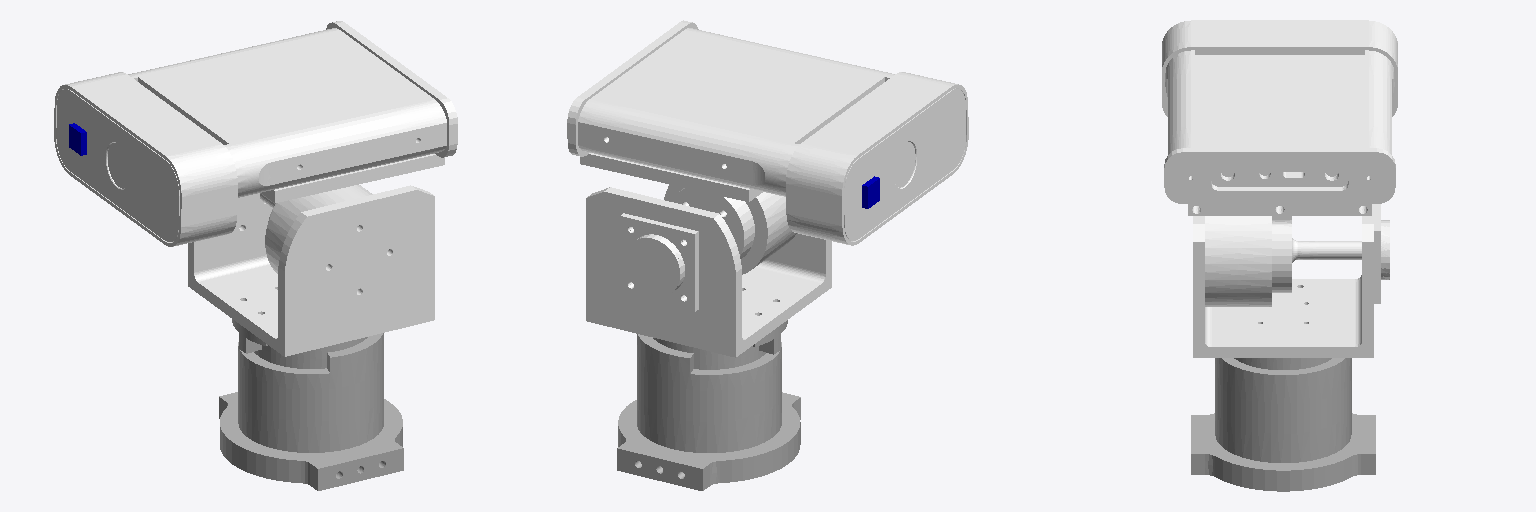
URDF robot description (twoarm_neck):
<robot
  name="twoarm_neck">
  <link name="world">
  </link>
  <link
    name="base_link">
    <inertial>
      <origin
        xyz="0 0 0"
        rpy="0 0 0" />
      <mass
        value="0.144396264939993" />
      <inertia
        ixx="0.000143518614192769"
        ixy="-3.10732239576783E-12"
        ixz="-6.67605359934269E-06"
        iyy="0.000155552709433615"
        iyz="-3.29481748801136E-12"
        izz="0.000258792041913219" />
    </inertial>
    <visual>
      <origin
        xyz="0 0 0"
        rpy="0 0 0" />
      <geometry>
        <mesh
          filename="two_arm_neck/neck1.stl" />
      </geometry>
      <material
        name="">
        <color
          rgba="0.752941176470588 0.752941176470588 0.752941176470588 1" />
      </material>
    </visual>
    <collision>
      <origin
        xyz="0 0 0"
        rpy="0 0 0" />
      <geometry>
        <mesh
          filename="two_arm_neck/neck1.stl" />
      </geometry>
    </collision>
  </link>
  <link
    name="link1">
    <inertial>
      <origin
        xyz="0 0 0"
        rpy="0 0 0" />
      <mass
        value="0.00558464092794276" />
      <inertia
        ixx="1.34906671319978E-06"
        ixy="-6.75990848930974E-15"
        ixz="-9.2900996309437E-10"
        iyy="2.56110628664785E-06"
        iyz="2.75193579105881E-11"
        izz="2.08267318891963E-06" />
    </inertial>
    <visual>
      <origin
        xyz="0 0 0"
        rpy="0 0 0" />
      <geometry>
        <mesh
          filename="two_arm_neck/neck2.stl" />
      </geometry>
      <material
        name="">
        <color
          rgba="1 1 1 1" />
      </material>
    </visual>
    <collision>
      <origin
        xyz="0 0 0"
        rpy="0 0 0" />
      <geometry>
        <mesh
          filename="two_arm_neck/neck2.stl" />
      </geometry>
    </collision>
  </link>
  <link
    name="link2">
    <inertial>
      <origin
        xyz="0 0 0"
        rpy="0 0 0" />
      <mass
        value="0.00558464092794276" />
      <inertia
        ixx="1.34906671319978E-06"
        ixy="-6.75990848930974E-15"
        ixz="-9.2900996309437E-10"
        iyy="2.56110628664785E-06"
        iyz="2.75193579105881E-11"
        izz="2.08267318891963E-06" />
    </inertial>
    <visual>
      <origin
        xyz="0 0 0"
        rpy="0 0 0" />
      <geometry>
        <mesh
          filename="two_arm_neck/neck3.stl" />
      </geometry>
      <material
        name="">
        <color
          rgba="1 1 1 1" />
      </material>
    </visual>
    <collision>
      <origin
        xyz="0 0 0"
        rpy="0 0 0" />
      <geometry>
        <mesh
          filename="two_arm_neck/neck3.stl" />
      </geometry>
    </collision>
  </link>
  <link
    name="tcp">
    <inertial>
      <origin
        xyz="0 0 0"
        rpy="0 0 0" />
      <mass
        value="0.00558464092794276" />
      <inertia
        ixx="1.34906671319978E-06"
        ixy="-6.75990848930974E-15"
        ixz="-9.2900996309437E-10"
        iyy="2.56110628664785E-06"
        iyz="2.75193579105881E-11"
        izz="2.08267318891963E-06" />
    </inertial>
    <visual>
      <origin rpy="0 0 0" xyz="0 0 0"/>
      <geometry>
       <box size="0.01 0.01 0.01" />
      </geometry>
      <material name="blue">
    <color rgba="0.0 0.0 0.8 1.0"/>
  </material>
    </visual>
    <collision>
      <origin rpy="0 0 0" xyz="0 0 0"/>
      <geometry>
        <box size="0.01 0.01 0.01" />
      </geometry>
    </collision>
  </link>
  <joint
    name="world_fixed"
    type="fixed">
    <origin
      xyz="0 0 0"
      rpy="0 0 0" />
    <parent
      link="world" />
    <child
      link="base_link" />
    <axis
      xyz="0 0 -1" />
  </joint>
  <joint
    name="joint1"
    type="continuous">
    <origin
      xyz="0 0 0.06290"
      rpy="0 0 0" />
    <parent
      link="base_link" />
    <child
      link="link1" />
    <axis
      xyz="0 0 1" />
  </joint>
  <joint
    name="joint2"
    type="continuous">
    <origin
      xyz="0 0 0.035"
      rpy="0 0 0" />
    <parent
      link="link1" />
    <child
      link="link2" />
    <axis
      xyz="0 -1 0" />
  </joint>
  <joint
    name="joint3"
    type="continuous">
    <origin
      xyz="-0.08867 0.02840 0.04790"
      rpy="0 0 0" />
    <parent
      link="link2" />
    <child
      link="tcp" />
    <axis
      xyz="0 -1 0" />
  </joint>
</robot>

--- What the picture shows (computed from the rendered views, not written in the file) ---
3 views of the same robot in one strip: view 1: azimuth 30°, elevation 25°; view 2: azimuth 150°, elevation 25°; view 3: azimuth 270°, elevation 25° (orthographic).
Robot: twoarm_neck — 5 links, 4 joints (3 continuous, 1 fixed); root link world; default pose: all joints at 0.
Visible links, largest first — view 1: link2, link1, base_link; view 2: link2, link1, base_link; view 3: link2, link1, base_link.
Boxes of the visible links, box(x1,y1,x2,y2) form: link2: box(54, 21, 457, 246); link1: box(188, 185, 434, 356); base_link: box(219, 319, 403, 490); link2: box(567, 20, 968, 309); link1: box(586, 184, 831, 357); base_link: box(617, 320, 800, 490); link2: box(1162, 20, 1397, 303); link1: box(1193, 204, 1389, 357); base_link: box(1191, 358, 1375, 491).
Bounding box of the posed robot: 0.1323 × 0.1025 × 0.1654 m (x, y, z).
3 mesh visuals loaded from 3 distinct referenced files (3 binary STL).